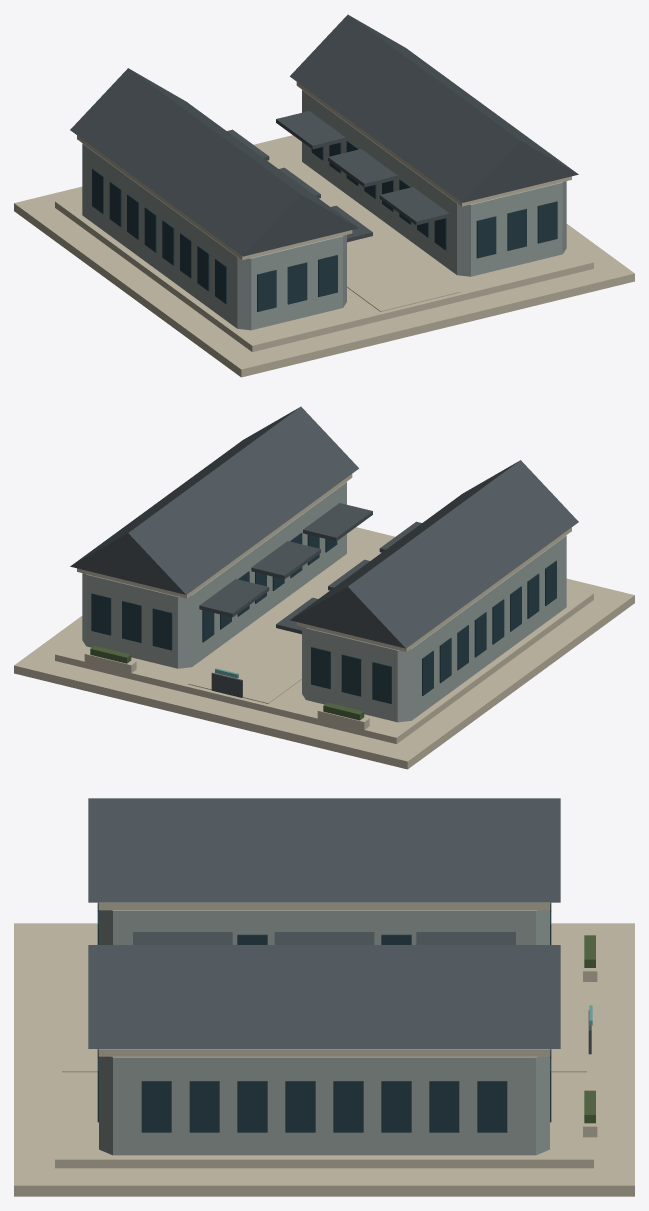
File: retail.glb
3 views of the same model, one above another, from view 1: azimuth 30°, elevation 25°; view 2: azimuth 150°, elevation 25°; view 3: azimuth 270°, elevation 25° (orthographic). The views are drawn at different scales.
Parts seen in each view (by area): view 1: market-pitched-roofs, market-arcades, foundation, plinth, windows, market-street, market-awning, roof-slabs; view 2: market-pitched-roofs, market-arcades, foundation, plinth, windows, market-awning, market-street, roof-slabs, planters, planting, entry; view 3: market-pitched-roofs, market-arcades, foundation, plinth, windows, roof-slabs, market-awning, market-street, planting, planters.
Boxes of the visible parts, left/top/right/bottom form: market-pitched-roofs: left=70, top=14, right=578, bottom=256; market-arcades: left=82, top=90, right=566, bottom=330; foundation: left=14, top=135, right=634, bottom=377; plinth: left=55, top=141, right=593, bottom=351; windows: left=92, top=141, right=557, bottom=311; market-street: left=264, top=151, right=460, bottom=311; market-awning: left=227, top=111, right=449, bottom=242; roof-slabs: left=77, top=82, right=571, bottom=259; market-pitched-roofs: left=70, top=406, right=578, bottom=648; market-arcades: left=82, top=482, right=566, bottom=722; foundation: left=14, top=527, right=634, bottom=769; plinth: left=55, top=533, right=593, bottom=743; windows: left=91, top=533, right=556, bottom=703; market-awning: left=199, top=503, right=421, bottom=634; market-street: left=188, top=543, right=384, bottom=703; roof-slabs: left=77, top=474, right=571, bottom=651; planters: left=84, top=650, right=369, bottom=729; planting: left=90, top=645, right=364, bottom=720; entry: left=211, top=672, right=242, bottom=697; market-pitched-roofs: left=88, top=798, right=560, bottom=1048; market-arcades: left=99, top=910, right=549, bottom=1155; foundation: left=14, top=923, right=634, bottom=1196; plinth: left=55, top=932, right=593, bottom=1168; windows: left=97, top=902, right=551, bottom=1132; roof-slabs: left=98, top=902, right=550, bottom=1056; market-awning: left=133, top=932, right=515, bottom=944; market-street: left=62, top=1018, right=586, bottom=1072; planting: left=584, top=935, right=595, bottom=1123; planters: left=583, top=940, right=597, bottom=1137.
Size of the model in its own units: 15.52 by 5.34 by 15.52.
